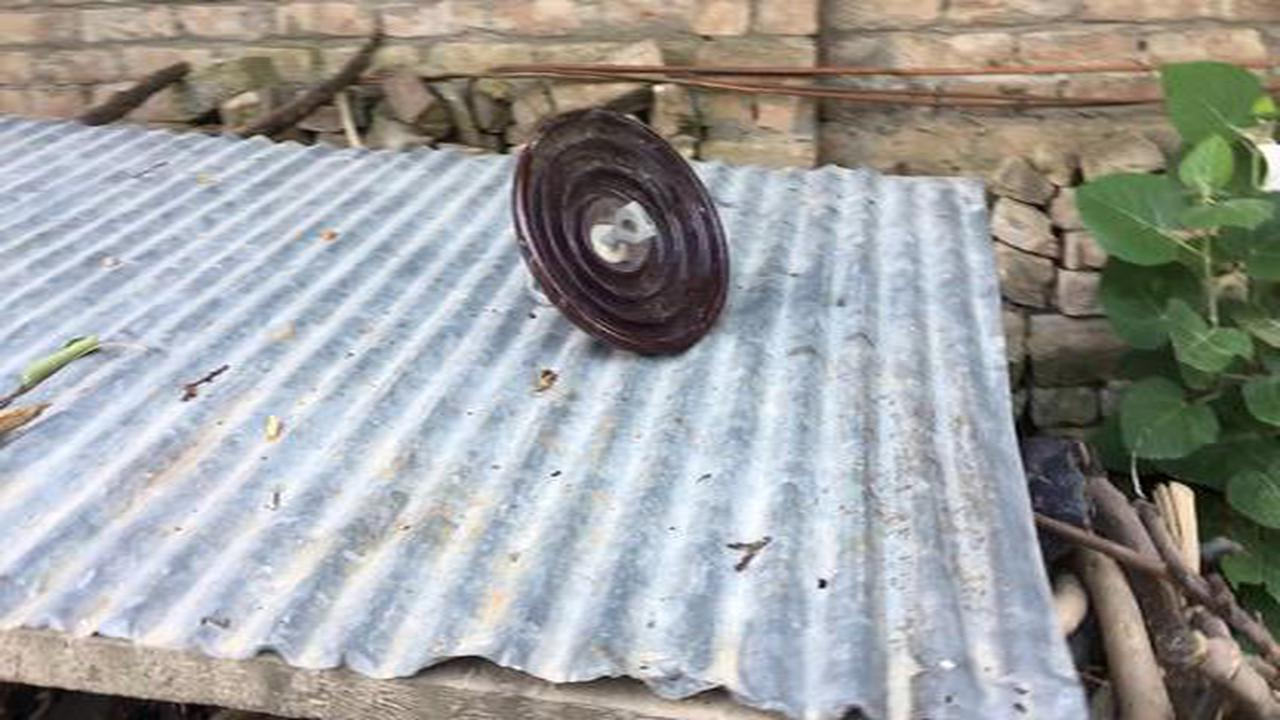insulator_disc: (507, 101, 737, 359)
